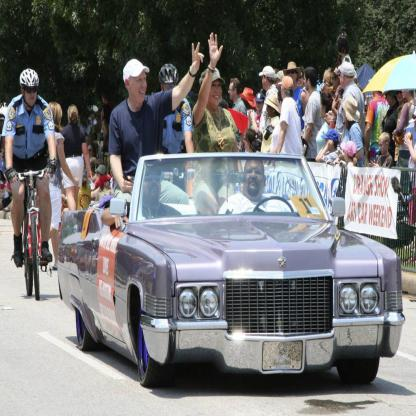face: (245, 162, 265, 197), (142, 174, 162, 203), (130, 72, 148, 104), (208, 81, 223, 106), (24, 86, 38, 108), (164, 82, 178, 101), (288, 70, 297, 87), (331, 72, 339, 90), (319, 101, 327, 118), (297, 72, 305, 88), (230, 83, 237, 100), (342, 107, 349, 124), (267, 104, 275, 118), (263, 73, 269, 90), (386, 93, 393, 107), (397, 89, 404, 103), (403, 85, 410, 99), (244, 134, 250, 150), (340, 72, 345, 90), (380, 141, 386, 156), (88, 147, 95, 159), (276, 78, 282, 92), (326, 139, 333, 151), (257, 101, 264, 112), (305, 74, 310, 89), (282, 85, 286, 99), (345, 150, 349, 163), (97, 172, 102, 182), (101, 108, 106, 117), (103, 96, 106, 105), (94, 134, 97, 141), (415, 121, 416, 133)
